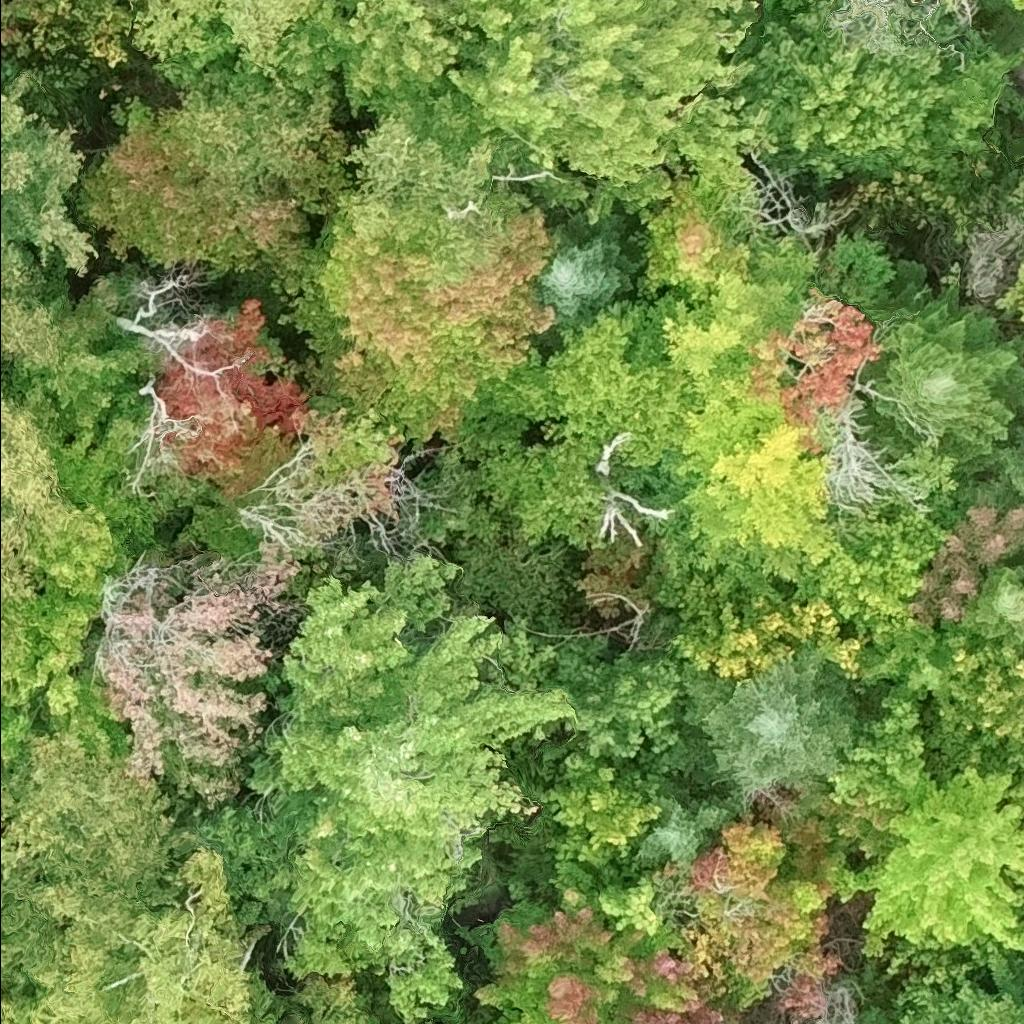crown: (250, 549, 578, 857), (444, 0, 778, 240), (313, 208, 559, 458), (96, 533, 300, 811), (252, 791, 486, 1023), (750, 0, 1023, 183), (0, 728, 193, 985), (458, 864, 745, 1023), (653, 377, 849, 606), (76, 95, 311, 272), (816, 762, 1023, 957), (676, 788, 846, 1021), (32, 844, 250, 1023), (328, 98, 535, 284), (473, 298, 690, 467), (631, 228, 823, 407), (861, 274, 1023, 480), (272, 0, 516, 127), (151, 65, 356, 215), (677, 655, 866, 817), (160, 297, 311, 495), (744, 287, 883, 453), (661, 573, 864, 684), (548, 637, 693, 785), (13, 274, 147, 429), (0, 69, 98, 275), (816, 508, 952, 653), (538, 749, 670, 893), (129, 0, 324, 92), (46, 394, 160, 547), (0, 390, 69, 626), (630, 177, 752, 306), (478, 434, 607, 550), (0, 578, 104, 721), (909, 501, 1023, 627), (618, 779, 752, 882), (820, 681, 927, 807), (531, 211, 639, 335), (858, 943, 1023, 1023), (290, 403, 408, 483), (37, 499, 129, 596), (53, 655, 131, 755), (960, 419, 1023, 513), (962, 559, 1023, 650), (0, 293, 58, 362), (293, 973, 367, 1023), (0, 233, 44, 308), (987, 259, 1023, 325), (0, 988, 6, 1023), (1016, 951, 1023, 960), (936, 0, 959, 2), (1021, 912, 1023, 923)
